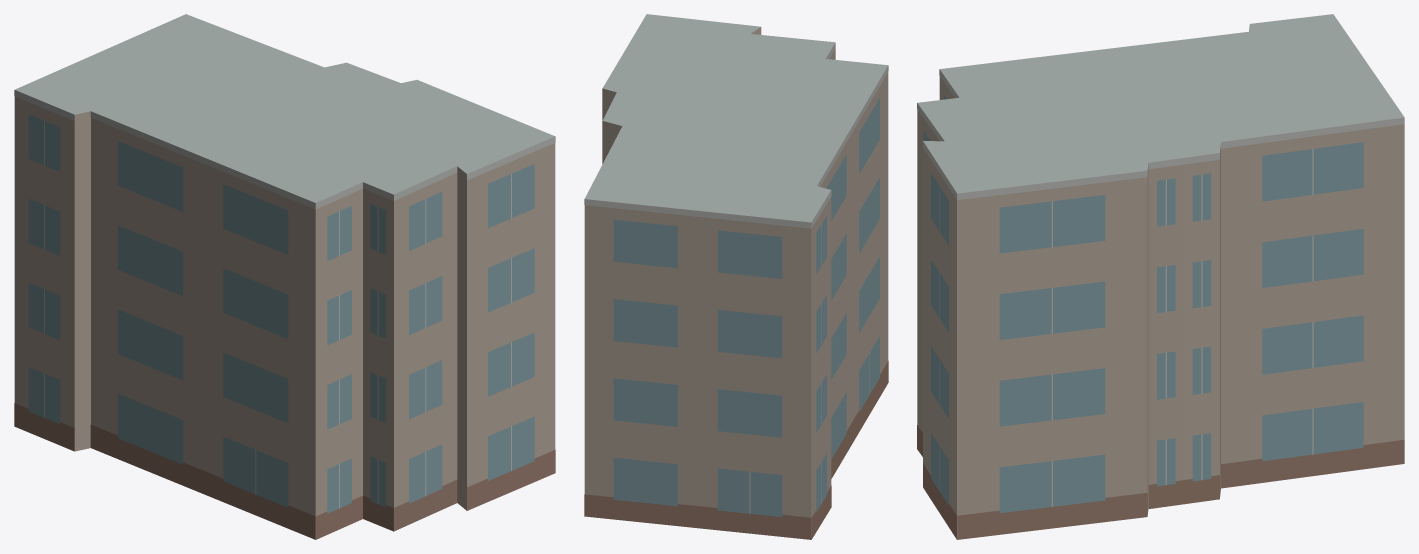
The model's file is survey-upis-32481644.glb.
3 renders of one model, left to right at view 1: azimuth 30°, elevation 25°; view 2: azimuth 150°, elevation 25°; view 3: azimuth 270°, elevation 25°, orthographic. The views are drawn at different scales.
Parts seen in each view (by area): view 1: survey-upis-32481644.tmp; view 2: survey-upis-32481644.tmp; view 3: survey-upis-32481644.tmp.
Boxes of the visible parts, left/top/right/bottom form: survey-upis-32481644.tmp: left=14, top=14, right=555, bottom=539; survey-upis-32481644.tmp: left=584, top=14, right=888, bottom=539; survey-upis-32481644.tmp: left=917, top=14, right=1404, bottom=539.
Size of the model in its own units: 14.25 by 12.8 by 16.34.
